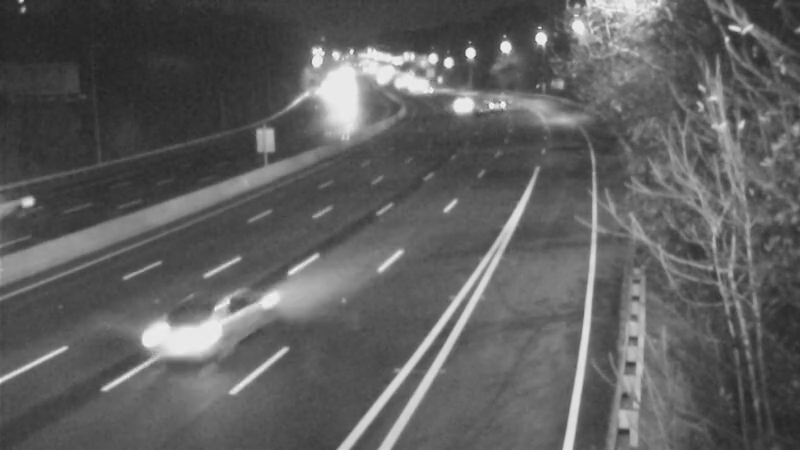vehicle: (125, 275, 235, 385), (1, 161, 69, 241), (435, 71, 485, 121), (465, 73, 515, 123)
